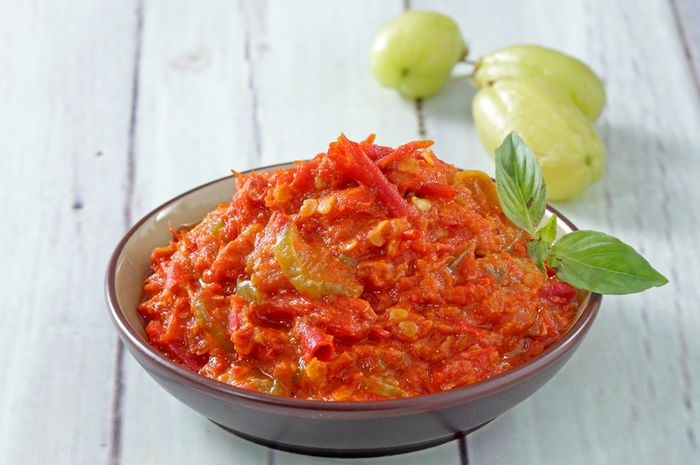sambal: (138, 132, 576, 403)
